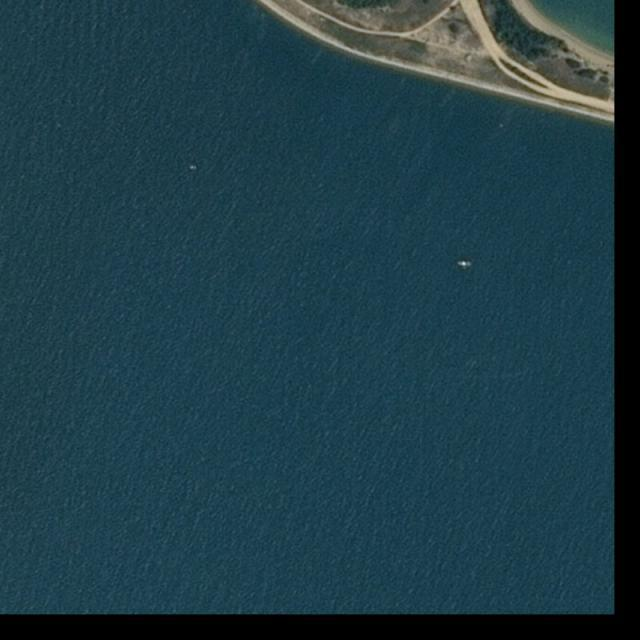ship: (458, 259, 472, 267)
